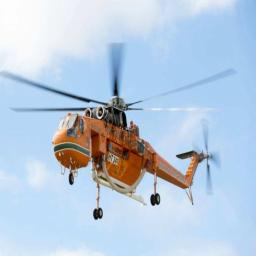helicopter: (6, 38, 238, 225)
